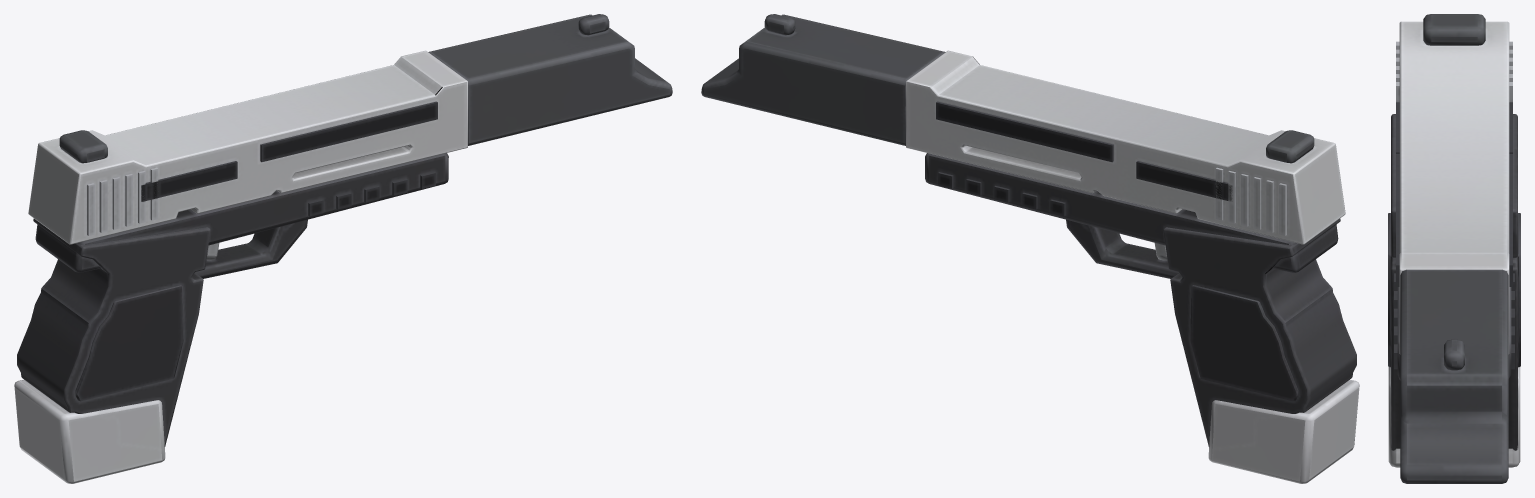
Rendered from AT_GravRecon.fbx.
3 views of the same model, side by side, from view 1: azimuth 30°, elevation 25°; view 2: azimuth 150°, elevation 25°; view 3: azimuth 270°, elevation 25° (orthographic). The views are drawn at different scales.
Visible parts, largest first — view 1: AT_GravRecon; view 2: AT_GravRecon; view 3: AT_GravRecon.
Boxes of the visible parts, box(x1,y1,x2,y2) form: AT_GravRecon: box(14, 14, 672, 483); AT_GravRecon: box(701, 14, 1359, 483); AT_GravRecon: box(1388, 14, 1520, 483).
Size of the model in its own units: 0.1783 by 0.0881 by 0.0257.
Materials: 1 (1 with a texture image).
